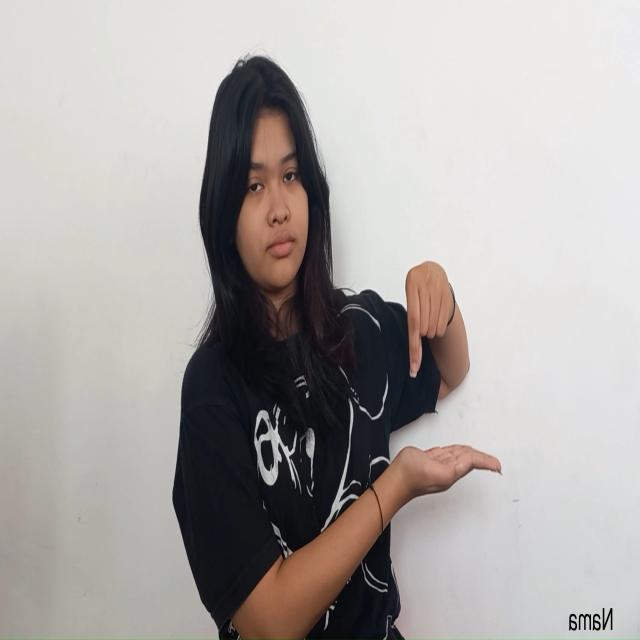Nama -BISINDO-: (394, 261, 504, 505)
